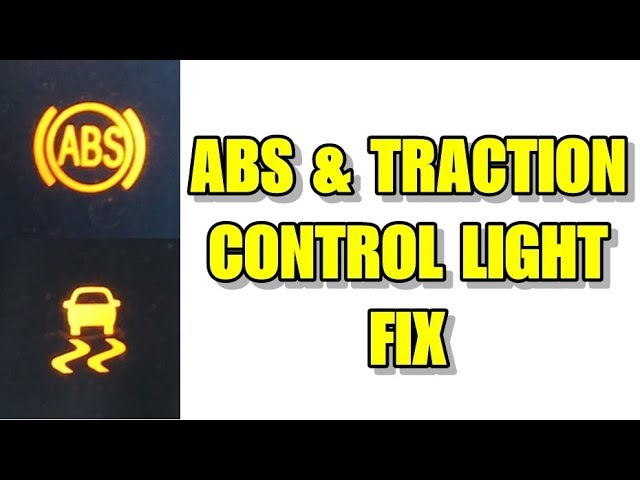ABS: (28, 95, 151, 194)
